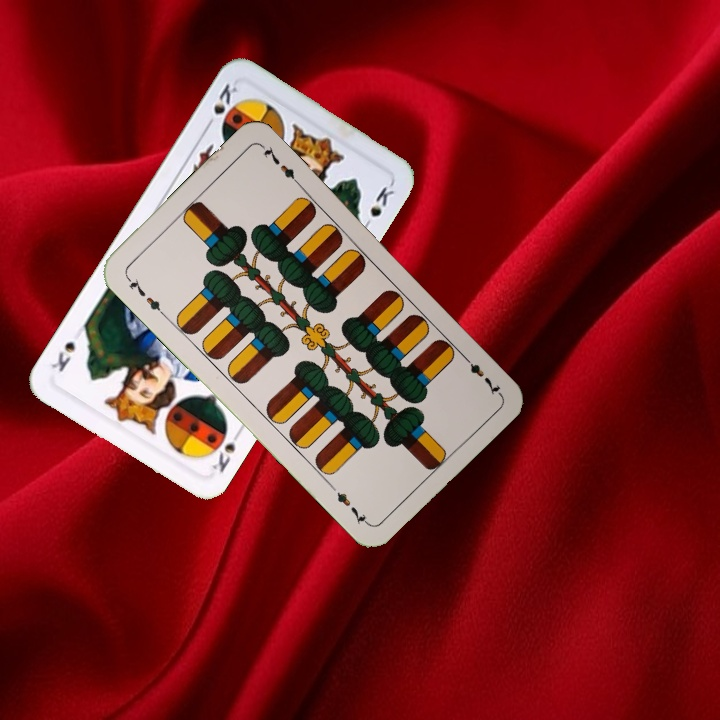E7: (122, 272, 168, 319), (458, 350, 503, 398)
SK: (201, 79, 240, 132), (208, 425, 245, 476)
